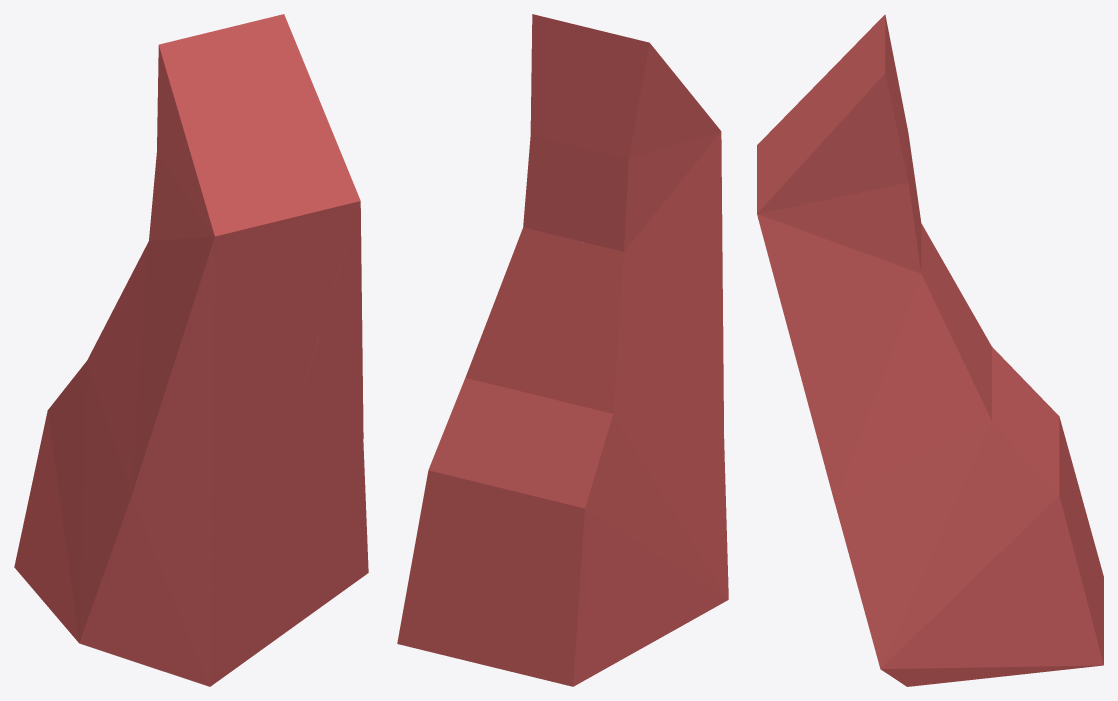
The model's file is dossy_neck.glb.
3 views of the same model, side by side, from view 1: azimuth 30°, elevation 25°; view 2: azimuth 150°, elevation 25°; view 3: azimuth 270°, elevation 25° (orthographic). The views are drawn at different scales.
Visible parts, largest first — view 1: dossy_neck_col; view 2: dossy_neck_col; view 3: dossy_neck_col.
Part boxes in pixels (x1,y1,x2,y2): dossy_neck_col: (14, 14, 368, 686); dossy_neck_col: (397, 14, 728, 686); dossy_neck_col: (757, 14, 1103, 686).
Bounding box in the file's own units: 0.2929 × 0.6438 × 0.3147.
